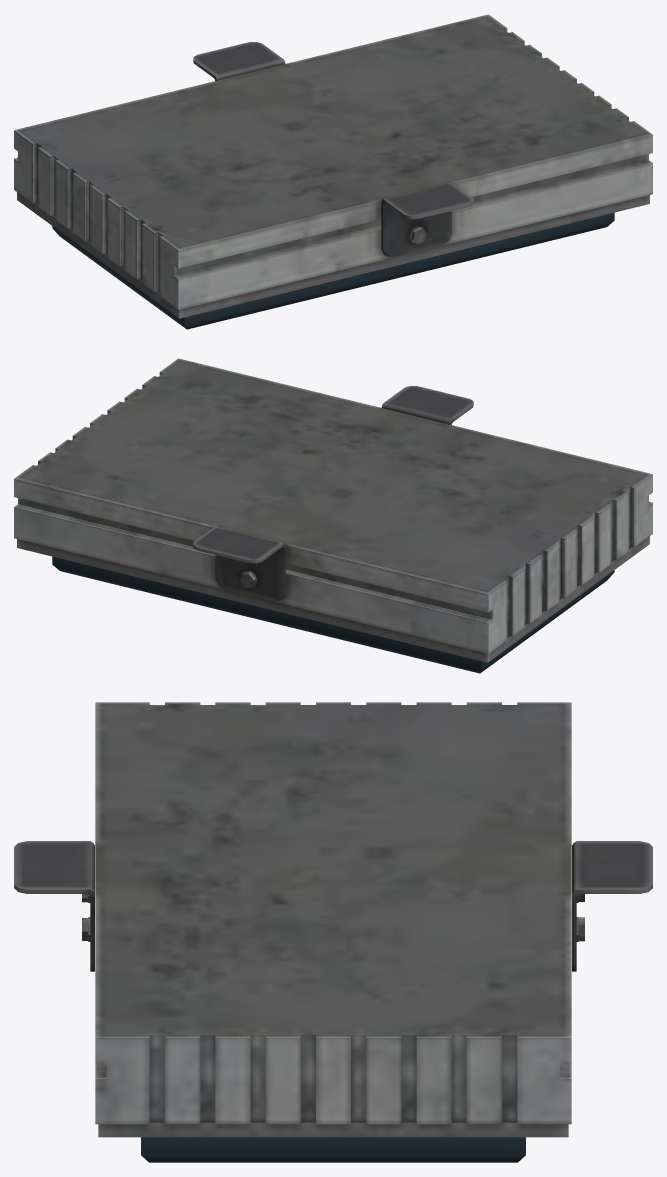
Rendered from SM_LampTopLarge_444700.glb.
3 views of the same model, one above another, from view 1: azimuth 30°, elevation 25°; view 2: azimuth 150°, elevation 25°; view 3: azimuth 270°, elevation 25° (orthographic). The views are drawn at different scales.
Size of the model in its own units: 0.75 by 0.155 by 0.6032.
Materials: 1 (1 with a texture image).
